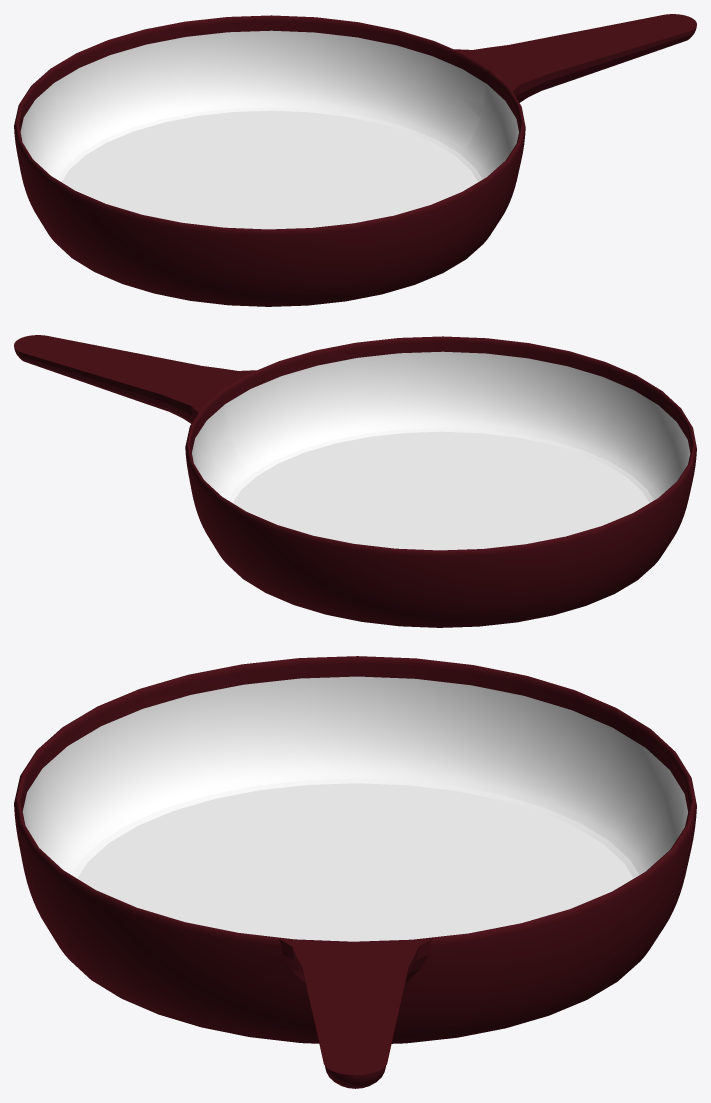
The model's file is Pan.fbx.
3 views of the same model, one above another, from view 1: azimuth 30°, elevation 25°; view 2: azimuth 150°, elevation 25°; view 3: azimuth 270°, elevation 25° (orthographic). The views are drawn at different scales.
Visible parts, largest first — view 1: keptuve_001; view 2: keptuve_001; view 3: keptuve_001.
Boxes of the visible parts, box(x1,y1,x2,y2) form: keptuve_001: box(14, 14, 696, 306); keptuve_001: box(14, 335, 696, 627); keptuve_001: box(14, 656, 696, 1088).
Size of the model in its own units: 23741 by 3098 by 16298.
